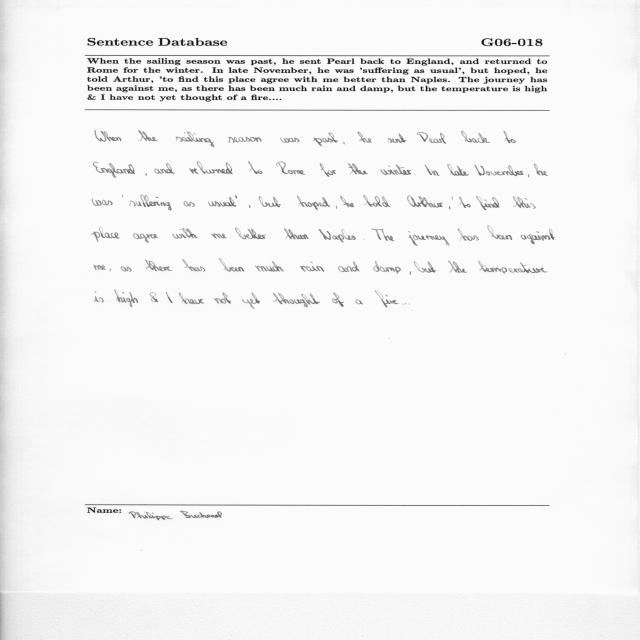word: (478, 261, 547, 274), (93, 162, 135, 178), (273, 293, 320, 307), (130, 195, 172, 210), (408, 231, 450, 246), (176, 131, 215, 147), (475, 165, 524, 176), (318, 229, 356, 243), (189, 162, 233, 174), (521, 229, 555, 244), (297, 195, 330, 210), (407, 195, 443, 208), (92, 227, 120, 242), (114, 290, 138, 307), (375, 291, 399, 308), (276, 162, 305, 175), (373, 261, 401, 274), (488, 226, 513, 240), (417, 132, 446, 144), (461, 131, 490, 143), (235, 228, 266, 239), (476, 196, 500, 210), (313, 133, 338, 146), (219, 259, 244, 272), (364, 195, 391, 207), (95, 130, 121, 142), (182, 259, 206, 272), (381, 165, 412, 175), (242, 292, 260, 309), (513, 196, 536, 209), (145, 260, 172, 271), (255, 261, 284, 271), (371, 229, 395, 241), (172, 228, 198, 239), (208, 197, 236, 207), (179, 293, 204, 304), (458, 228, 479, 241), (447, 164, 469, 176), (284, 229, 308, 240), (414, 261, 436, 273), (133, 233, 158, 243), (448, 261, 467, 274), (259, 197, 281, 208), (348, 163, 368, 175), (300, 262, 324, 272), (319, 163, 336, 177), (154, 163, 175, 174), (338, 262, 359, 272), (138, 131, 157, 142), (229, 137, 262, 143), (214, 293, 231, 304), (534, 163, 548, 176), (248, 162, 263, 174), (388, 134, 407, 143), (358, 131, 372, 143), (332, 293, 344, 307), (503, 131, 516, 143), (425, 165, 439, 176), (340, 196, 354, 207), (92, 199, 113, 206), (459, 197, 471, 208), (94, 292, 104, 303), (280, 138, 299, 143), (211, 234, 227, 239), (150, 292, 158, 302), (166, 292, 173, 303), (183, 201, 195, 207), (121, 266, 132, 272), (94, 265, 106, 270), (356, 300, 363, 305), (451, 196, 453, 200), (403, 303, 407, 305), (235, 196, 237, 199), (343, 142, 345, 144), (410, 271, 411, 275), (146, 173, 147, 176), (528, 174, 529, 177), (249, 205, 250, 208), (336, 206, 337, 209), (449, 206, 450, 209), (110, 269, 111, 272), (122, 195, 123, 197), (415, 174, 416, 175), (363, 239, 365, 239)
